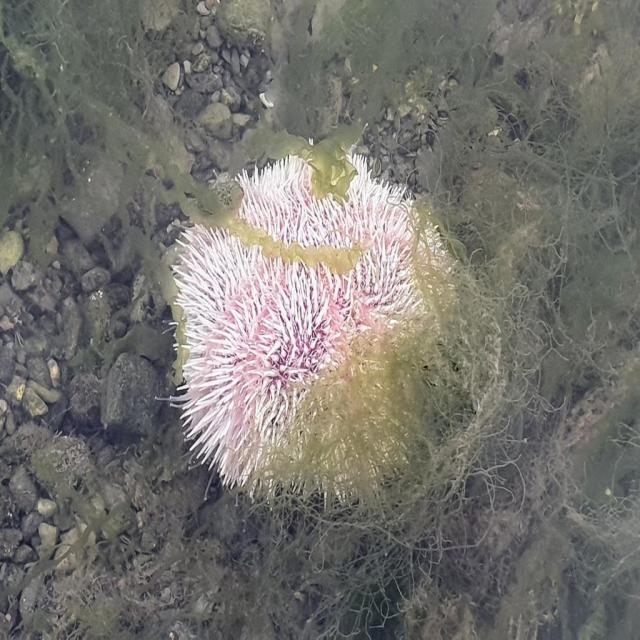Deniz Kestanesi: (154, 124, 460, 512)
